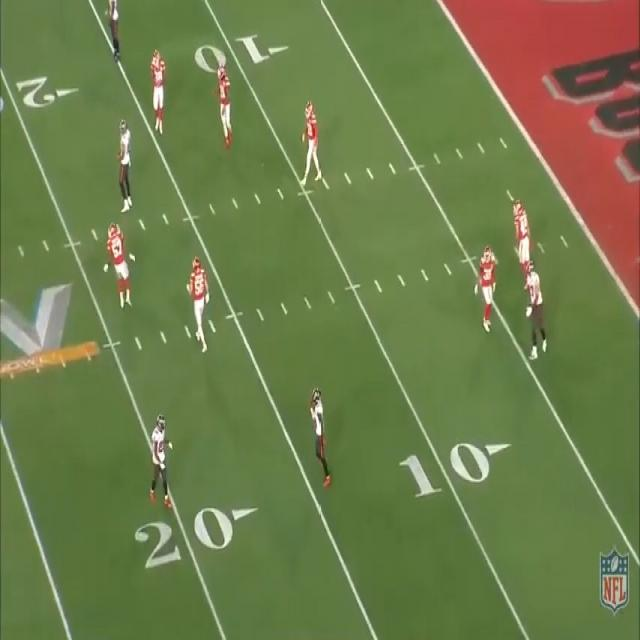players: (516, 259, 558, 364), (304, 383, 335, 499), (146, 407, 178, 516), (295, 90, 326, 198), (106, 220, 139, 321), (184, 253, 214, 360), (110, 111, 138, 220), (472, 244, 501, 338), (144, 48, 170, 139), (510, 189, 536, 275), (213, 62, 238, 149), (104, 0, 129, 65)
